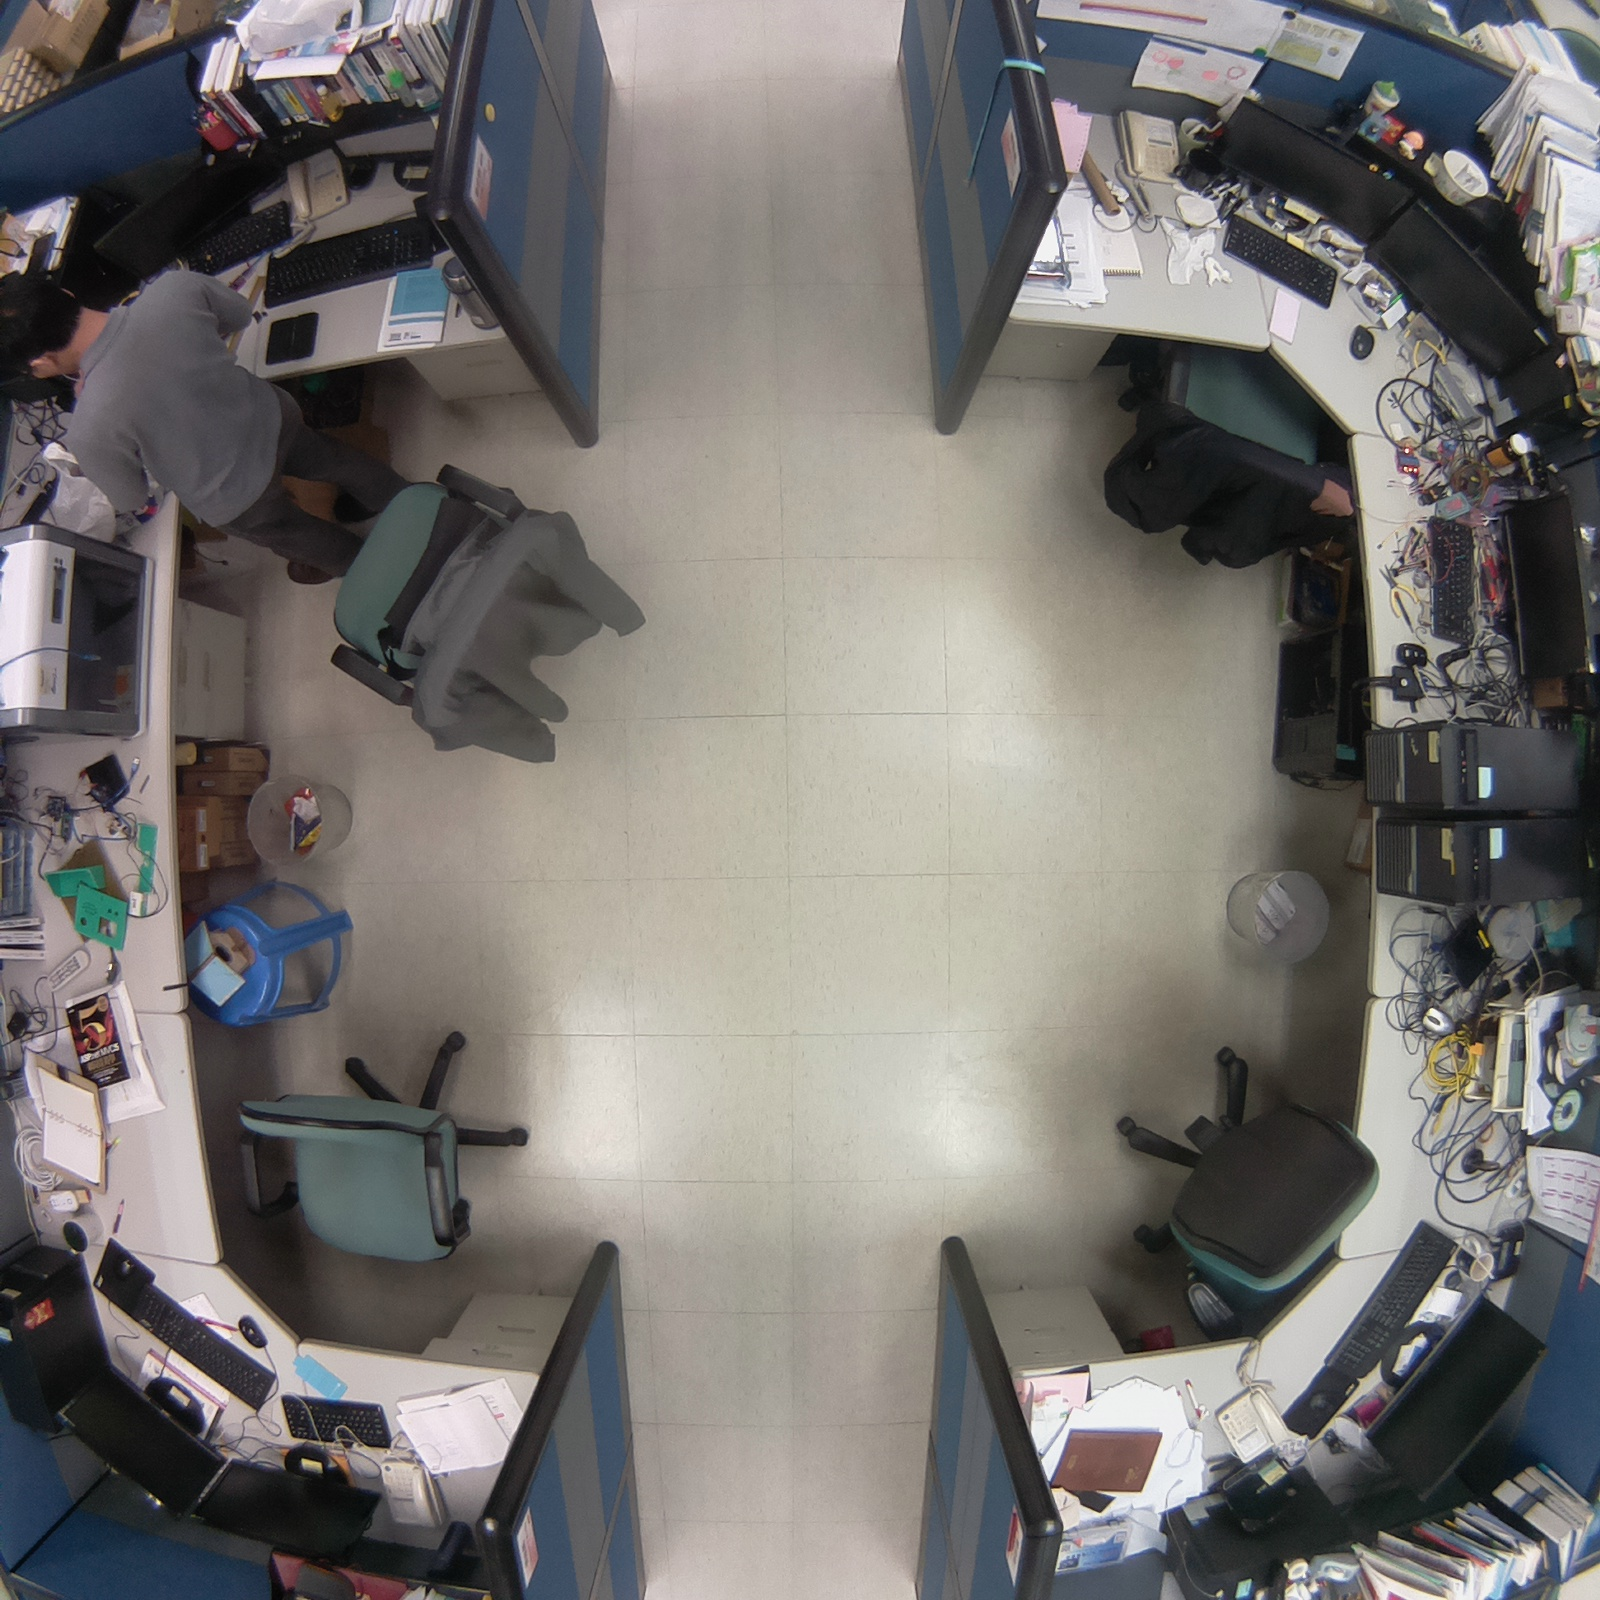chair: (301, 450, 681, 786), (1083, 1029, 1394, 1355), (222, 999, 573, 1283), (1076, 327, 1363, 593)
head: (1, 263, 93, 385)
standing: (1, 255, 414, 606)
